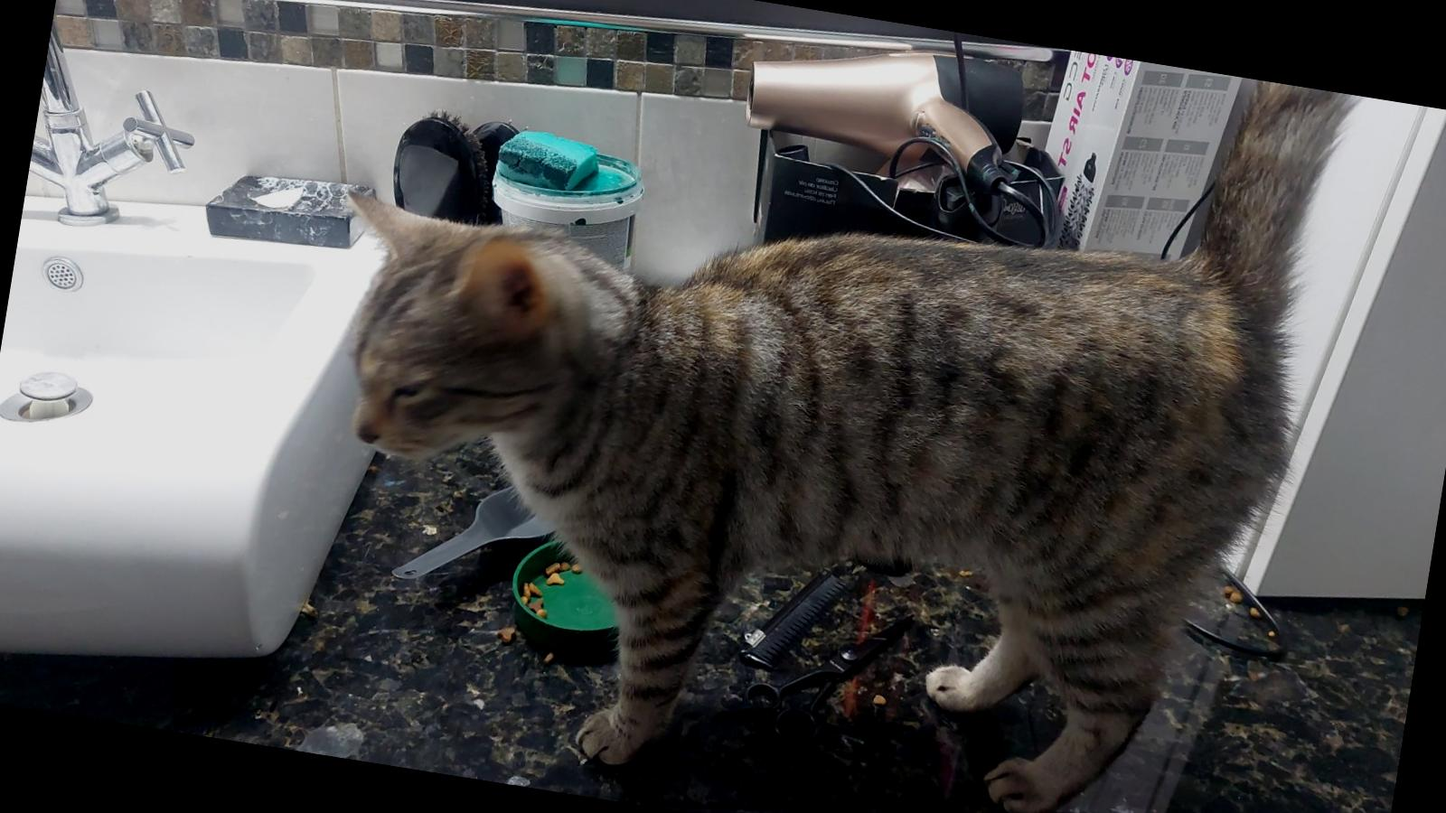macka: (258, 0, 1357, 813)
